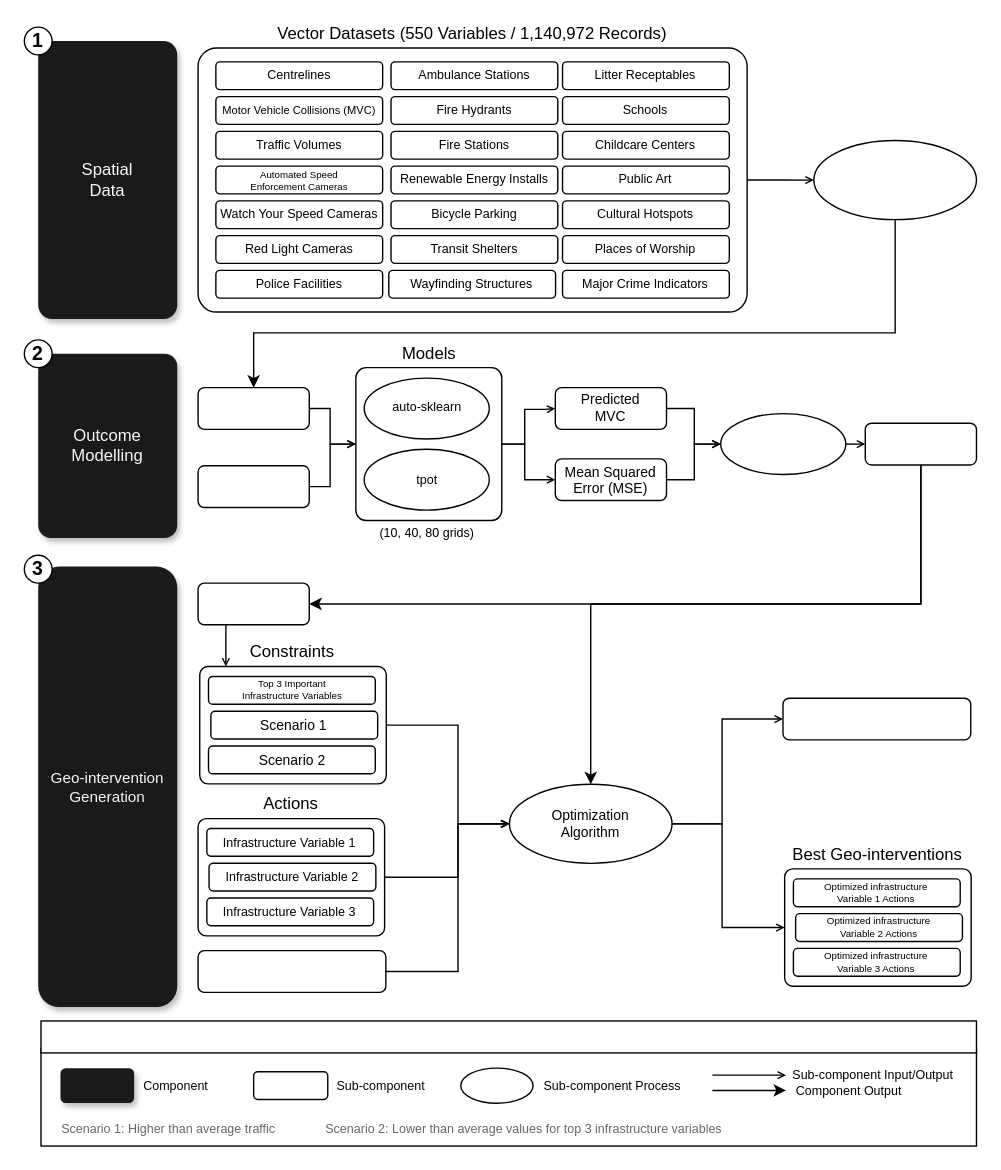
The diagram is 1001 pixels wide and 1170 high, and some of its shapes have lost their labels. Each missing label, with the centre of its shape:
"1 Minute Runtime" goes at (x=253, y=485).
"1417 Variables (10, 40, 80 grids)" goes at (x=253, y=407).
"auto-sklearn (80 grid)" goes at (x=920, y=443).
"Legend" goes at (x=508, y=1036).
"Lowest Total MVC" goes at (x=876, y=718).
"Select Lowest MSE Model" goes at (x=782, y=443).
"Spatial Aggregation (10, 40, 80 grids)" goes at (x=894, y=179).
"Total MVC" goes at (x=291, y=970).
"Variable Importance" goes at (x=253, y=603).
